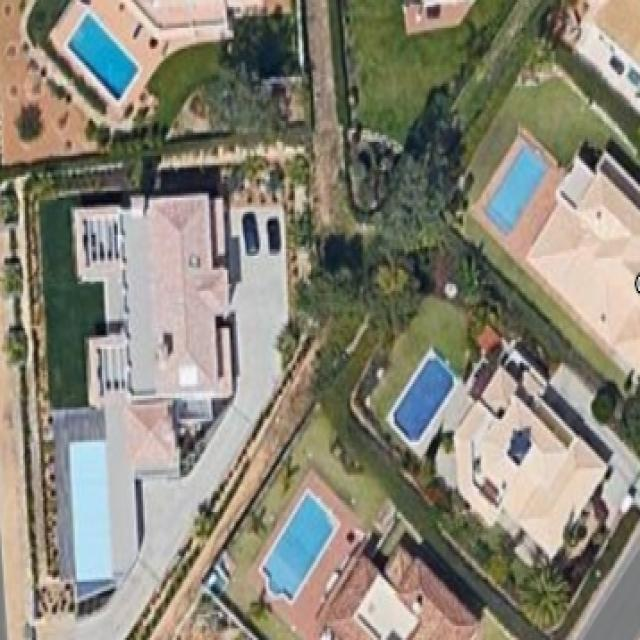pool: (237, 479, 355, 621), (374, 343, 472, 453), (471, 133, 564, 243)
